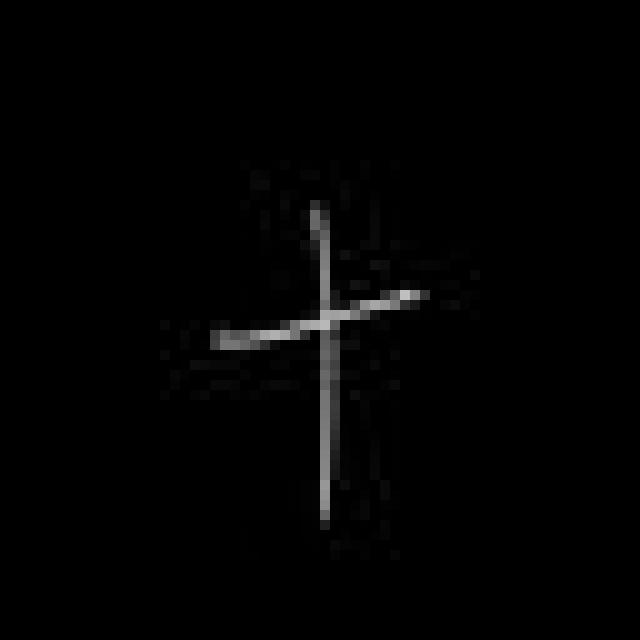10 -ten-: (196, 202, 435, 539)
